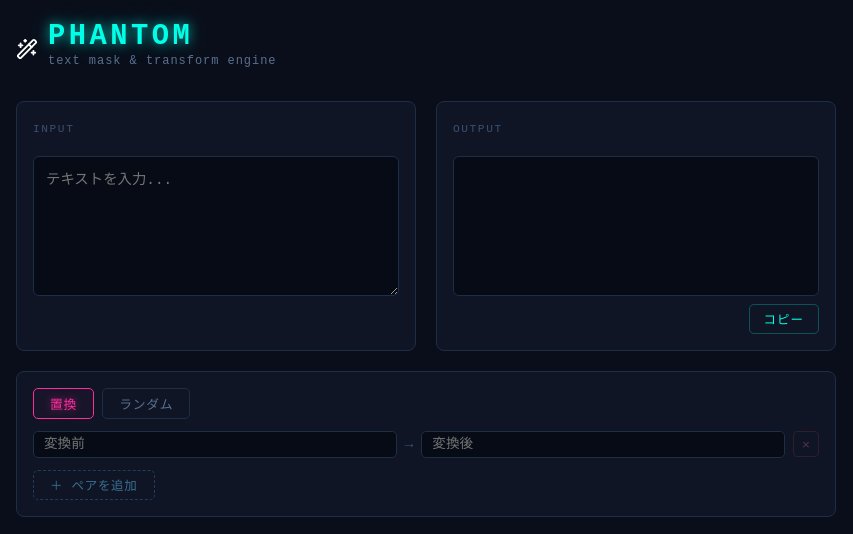
Test: 置換ペア › 変換前/変換後を入力すると出力が変換される
Type "hello world" into the text box with placeholder "テキストを入力...".
click(216, 226); type("hello world")  # box left=33, top=156, right=399, bottom=296
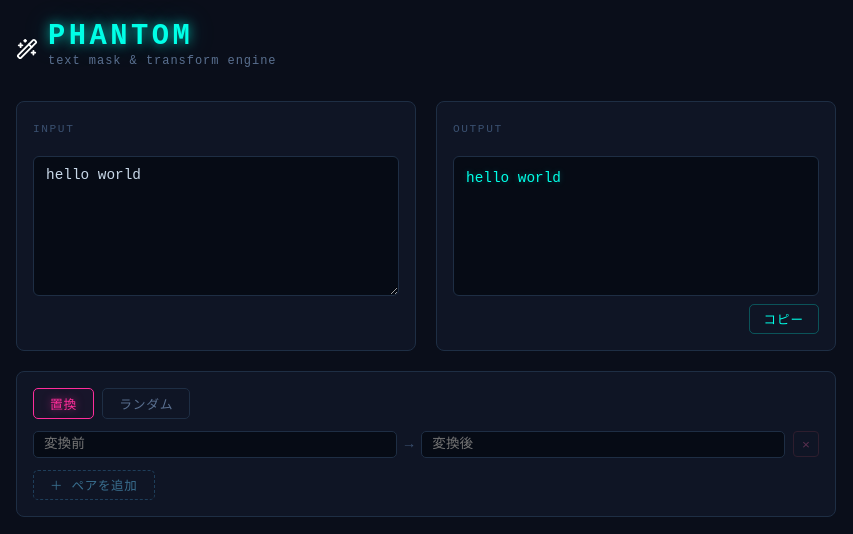
Type "hello" into the field with placeholder "変換前".
click(215, 444); type("hello")  # box left=33, top=431, right=397, bottom=458
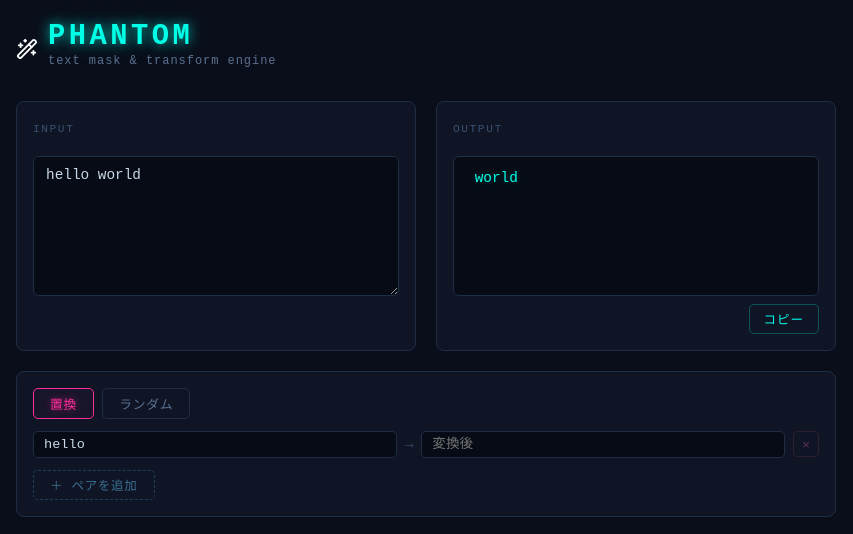
Type "bye" into the field with placeholder "変換後".
click(603, 444); type("bye")  # box left=421, top=431, right=785, bottom=458
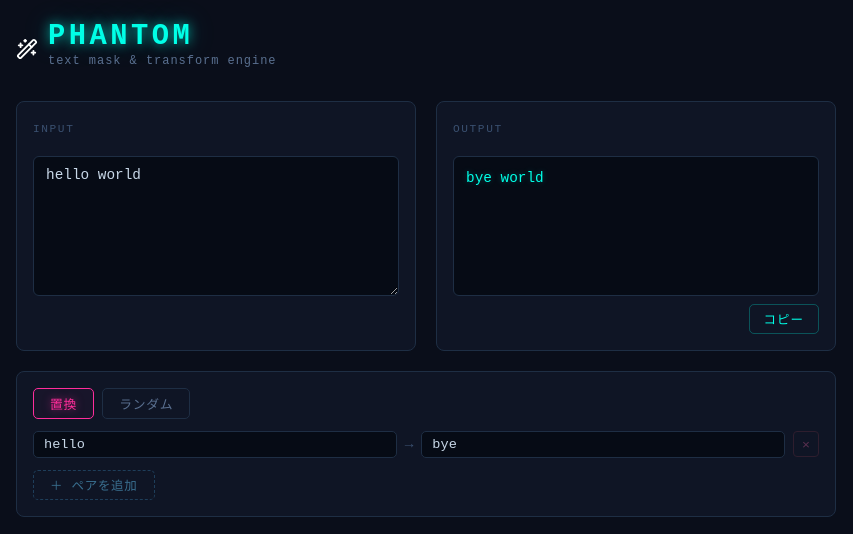
Now the text "bye world" is shown, box left=453, top=156, right=819, bottom=296
